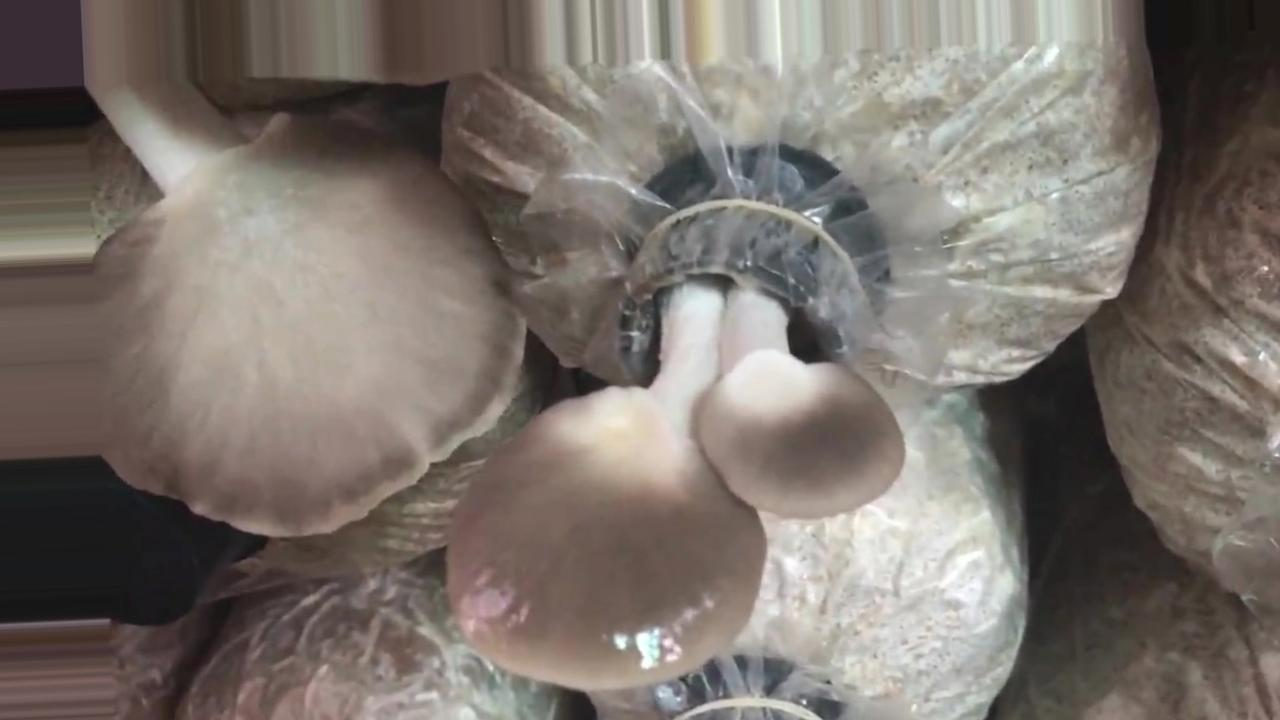nam: (1, 1, 531, 545), (442, 205, 914, 696)
